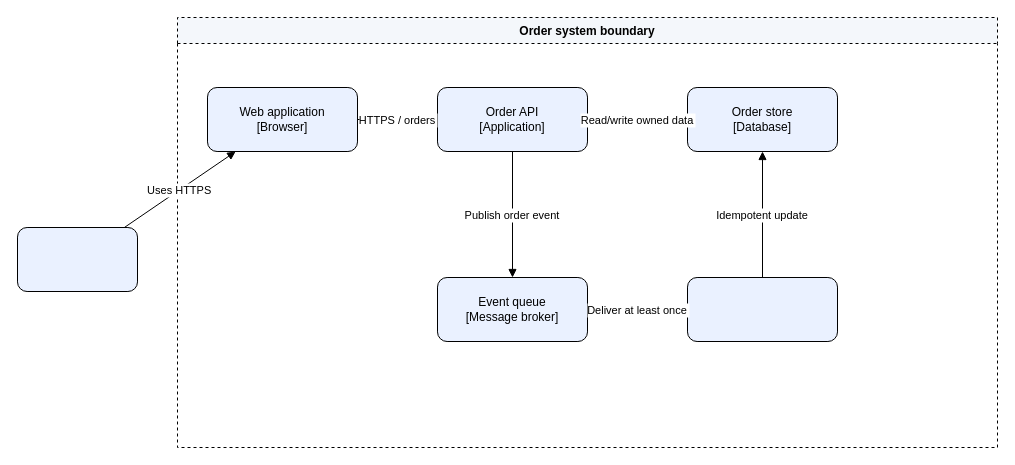
Some shapes in this 1015 by 465 pixel diagram are drawn without their labels. The box of each missing label's shape, as (x1, y1, x2, y2) in pixels:
Customer: (16, 226, 138, 292)
Order worker [Application]: (686, 276, 838, 342)
